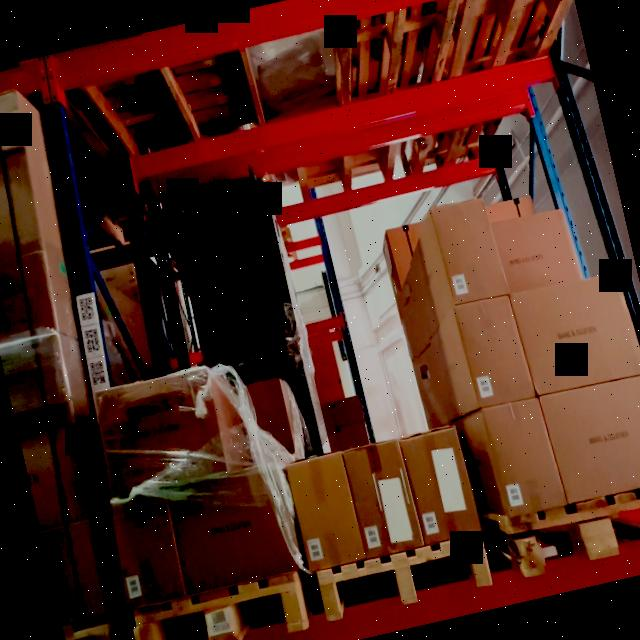box: (94, 365, 227, 500), (164, 467, 298, 593), (509, 273, 640, 396), (538, 375, 640, 505), (398, 424, 483, 546), (286, 451, 366, 572), (483, 399, 565, 516), (342, 441, 424, 558), (454, 295, 536, 408), (110, 491, 187, 609), (430, 197, 510, 305), (493, 209, 582, 292), (237, 378, 294, 466)
